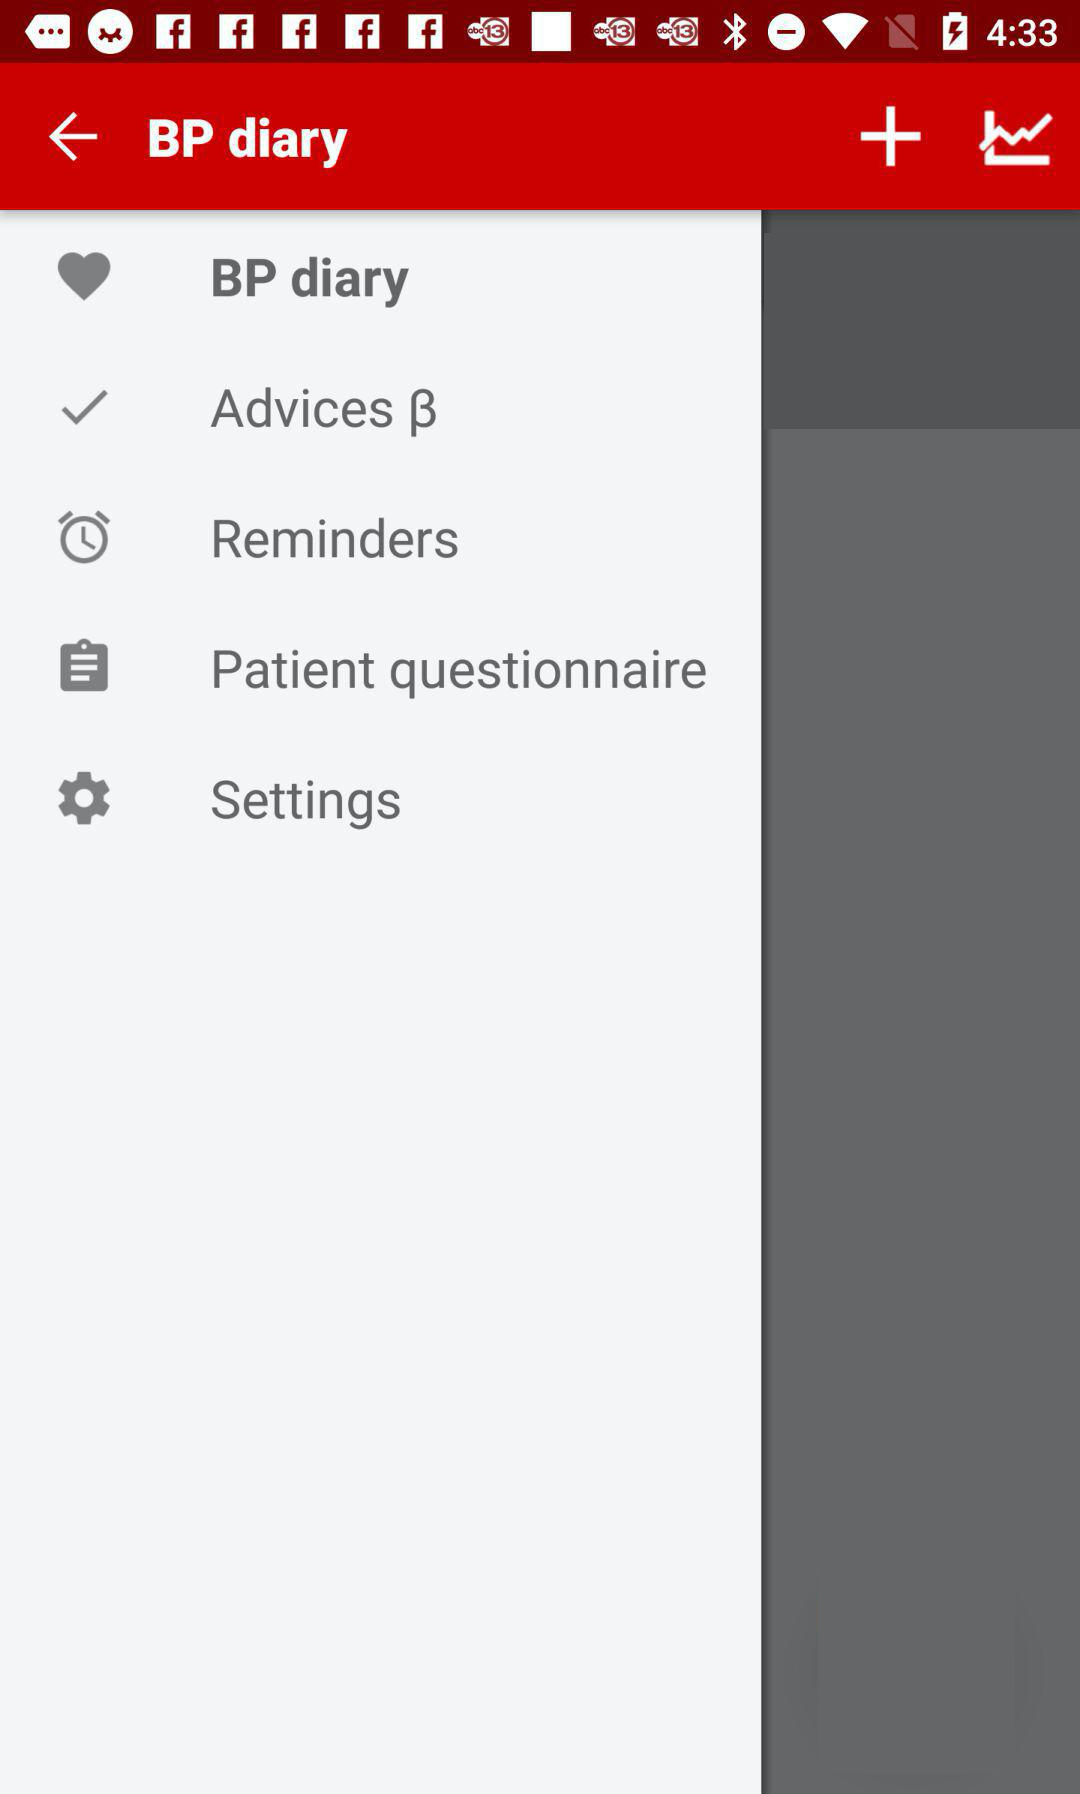Drawer: (1, 211, 762, 1793)
Icon: (978, 109, 1054, 168), (858, 106, 922, 170), (56, 509, 111, 566), (58, 771, 111, 827), (56, 251, 113, 302), (60, 637, 111, 693), (47, 111, 99, 164), (61, 390, 111, 427)
Text: (213, 648, 708, 701), (205, 254, 438, 313), (209, 384, 438, 440), (213, 516, 460, 561), (149, 115, 350, 170), (211, 778, 402, 832)
Toolbar: (1, 65, 1080, 211)
UpperTaskBar: (1, 1, 1080, 64)
